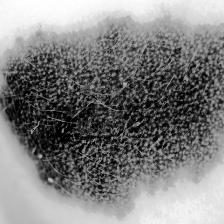Benign Marking or Mole: (0, 18, 224, 215)
